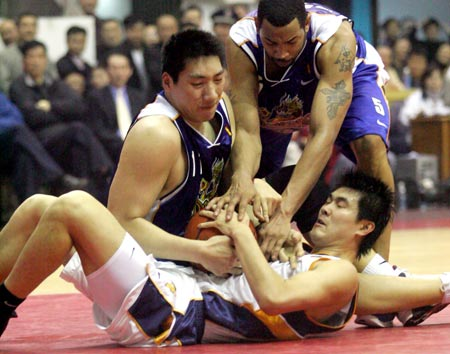10+: (1, 1, 450, 354)
down: (1, 166, 395, 354)
